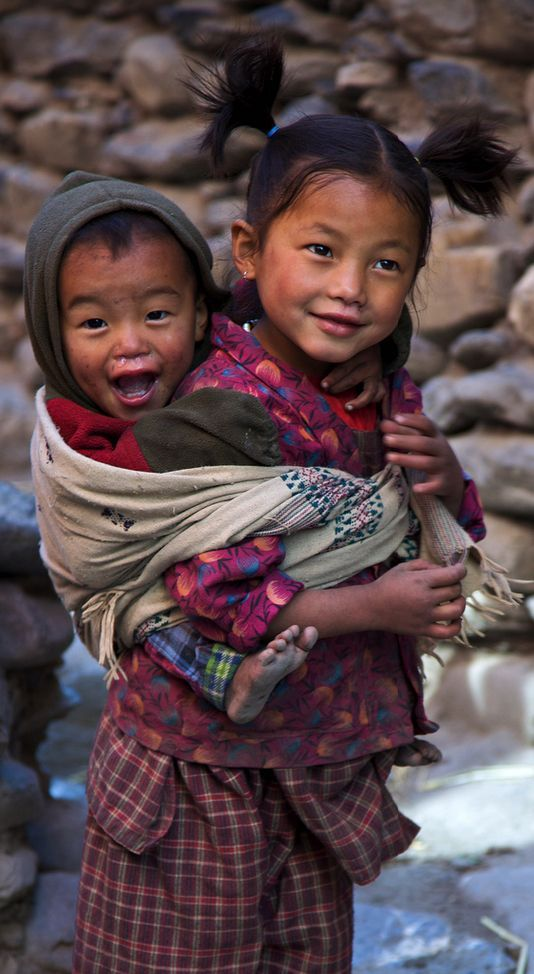human: (67, 34, 513, 974), (23, 168, 341, 754)
